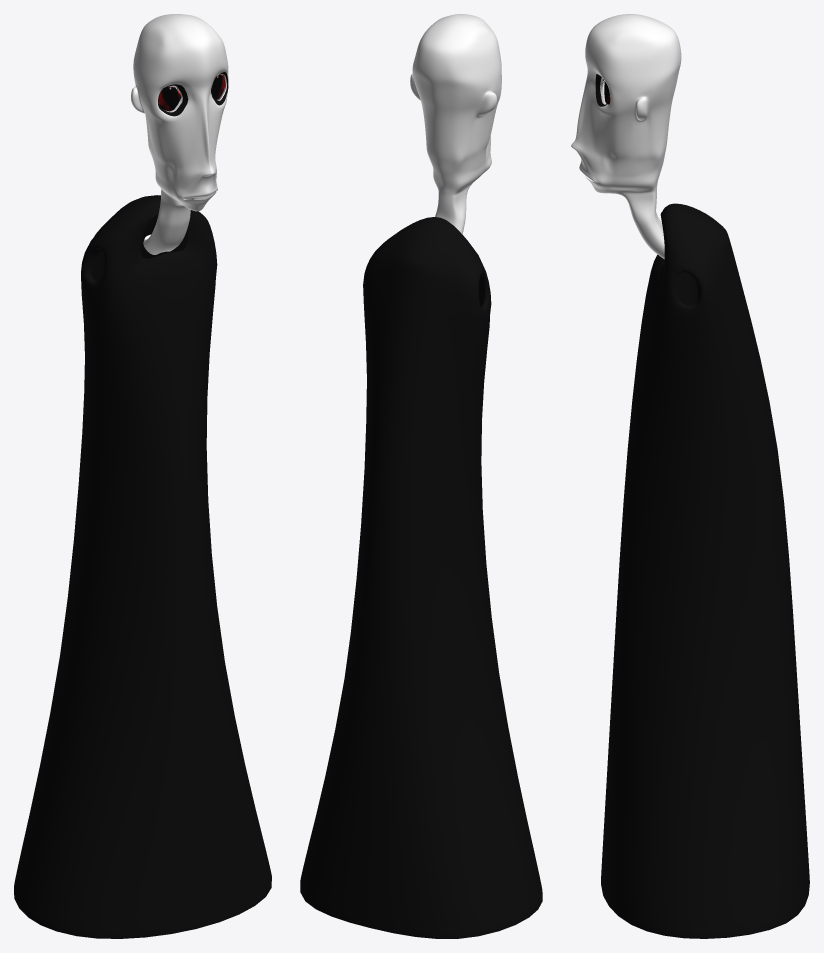
Rendered from ghost-p.fbx.
3 views of the same model, side by side, from view 1: azimuth 30°, elevation 25°; view 2: azimuth 150°, elevation 25°; view 3: azimuth 270°, elevation 25° (orthographic). The views are drawn at different scales.
Parts seen in each view (by area): view 1: Box001, Plane002, eye2; view 2: Box001, Plane002; view 3: Box001, Plane002.
Part boxes in pixels (x1,y1,x2,y2): Box001: (14,195,271,938); Plane002: (131,14,228,254); eye2: (158,74,225,111); Box001: (300,217,542,938); Plane002: (410,14,501,234); Box001: (601,203,809,938); Plane002: (571,14,681,259).
Size of the model in its own units: 40.4 by 37.76 by 152.
3 materials, 1 textured.
